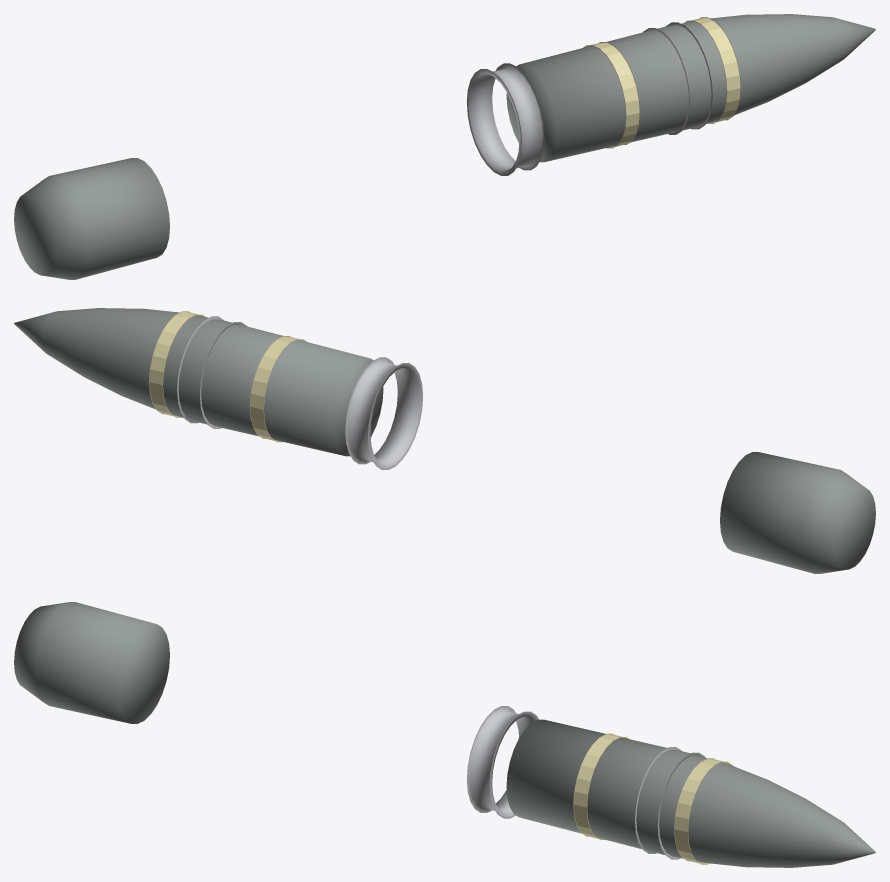
File: IN_SLBM_K4_LOD1.fbx
3 views of the same model, one above another, from view 1: azimuth 30°, elevation 25°; view 2: azimuth 150°, elevation 25°; view 3: azimuth 330°, elevation 25° (orthographic).
Parts seen in each view (by area): view 1: WPN_IN_SLBM_K4_LOD1_Body, WPN_IN_SLBM_K4_LOD1_Tail, WPN_IN_SLBM_K4_LOD1_Detail, WPN_IN_SLBM_K4_LOD1_Marking; view 2: WPN_IN_SLBM_K4_LOD1_Body, WPN_IN_SLBM_K4_LOD1_Tail, WPN_IN_SLBM_K4_LOD1_Detail, WPN_IN_SLBM_K4_LOD1_Marking; view 3: WPN_IN_SLBM_K4_LOD1_Body, WPN_IN_SLBM_K4_LOD1_Tail, WPN_IN_SLBM_K4_LOD1_Detail, WPN_IN_SLBM_K4_LOD1_Marking.
Part boxes in pixels (bbox=[...]): WPN_IN_SLBM_K4_LOD1_Body: bbox=[506, 14, 875, 162]; WPN_IN_SLBM_K4_LOD1_Tail: bbox=[14, 158, 169, 279]; WPN_IN_SLBM_K4_LOD1_Detail: bbox=[466, 22, 712, 175]; WPN_IN_SLBM_K4_LOD1_Marking: bbox=[583, 17, 740, 148]; WPN_IN_SLBM_K4_LOD1_Body: bbox=[14, 308, 383, 456]; WPN_IN_SLBM_K4_LOD1_Tail: bbox=[720, 452, 875, 573]; WPN_IN_SLBM_K4_LOD1_Detail: bbox=[177, 316, 423, 469]; WPN_IN_SLBM_K4_LOD1_Marking: bbox=[149, 311, 306, 442]; WPN_IN_SLBM_K4_LOD1_Body: bbox=[506, 719, 875, 867]; WPN_IN_SLBM_K4_LOD1_Tail: bbox=[14, 602, 169, 723]; WPN_IN_SLBM_K4_LOD1_Detail: bbox=[466, 706, 705, 859]; WPN_IN_SLBM_K4_LOD1_Marking: bbox=[573, 733, 733, 864].
Bounding box in the file's own units: 12 × 1.37 × 1.37.
